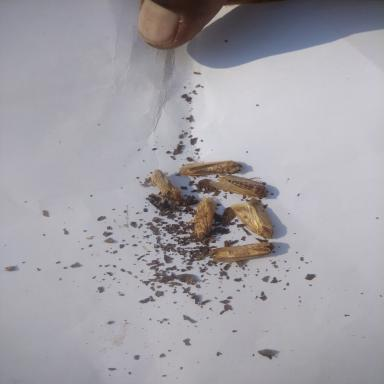abw: (226, 200, 281, 240), (206, 242, 276, 264), (211, 175, 273, 198), (189, 195, 216, 241), (177, 159, 245, 177)
